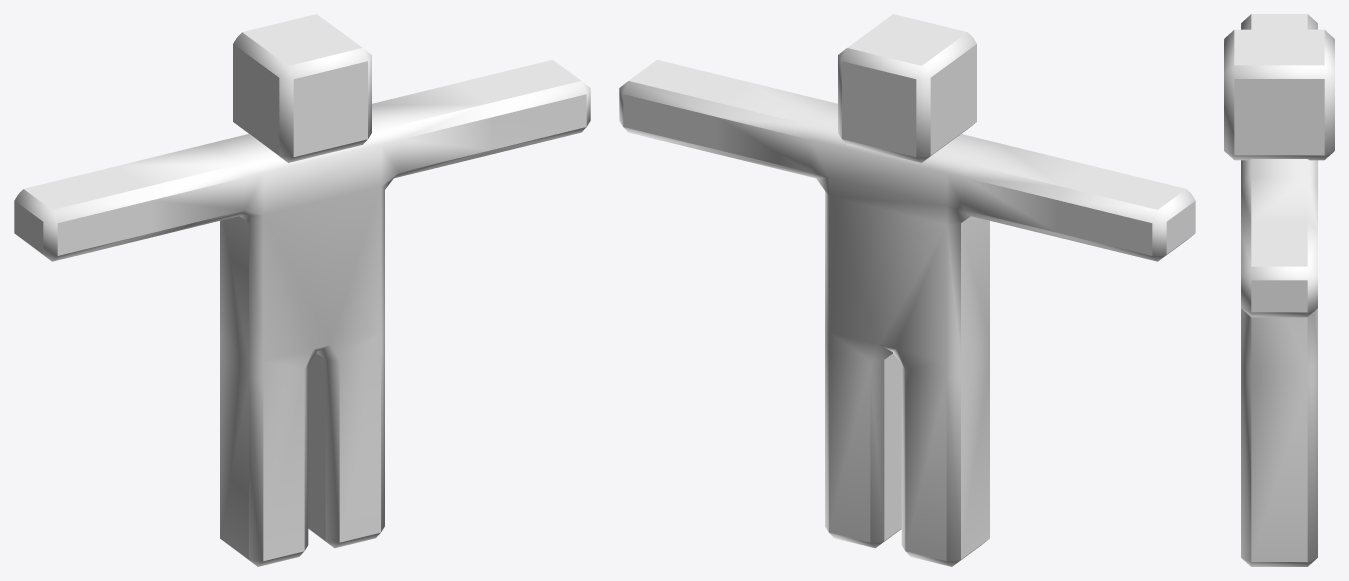
The model's file is player.obj.
3 views of the same model, side by side, from view 1: azimuth 30°, elevation 25°; view 2: azimuth 150°, elevation 25°; view 3: azimuth 270°, elevation 25° (orthographic). The views are drawn at different scales.
Visible parts, largest first — view 1: 立方体; view 2: 立方体; view 3: 立方体.
Part boxes in pixels (left/top/right/bottom): 立方体: left=14, top=14, right=590, bottom=566; 立方体: left=619, top=14, right=1195, bottom=566; 立方体: left=1224, top=14, right=1334, bottom=566.
Size of the model in its own units: 4.36 by 3.82 by 0.7825.
Materials: 1 (1 with a texture image).
